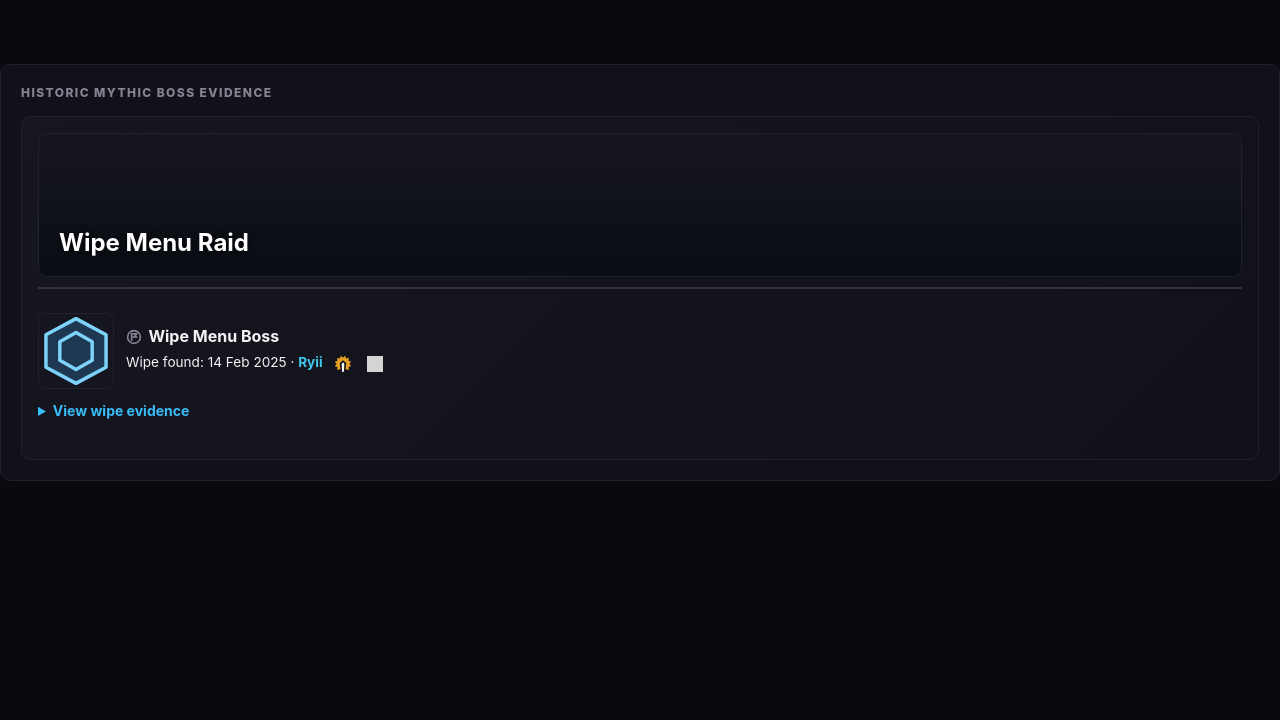
opens duplicate wipe reports on hover with guild and uploader labels
The width and height of the screenshot is (1280, 720).
Click the heading "View wipe evidence": [121, 411] box [53, 402, 189, 419]
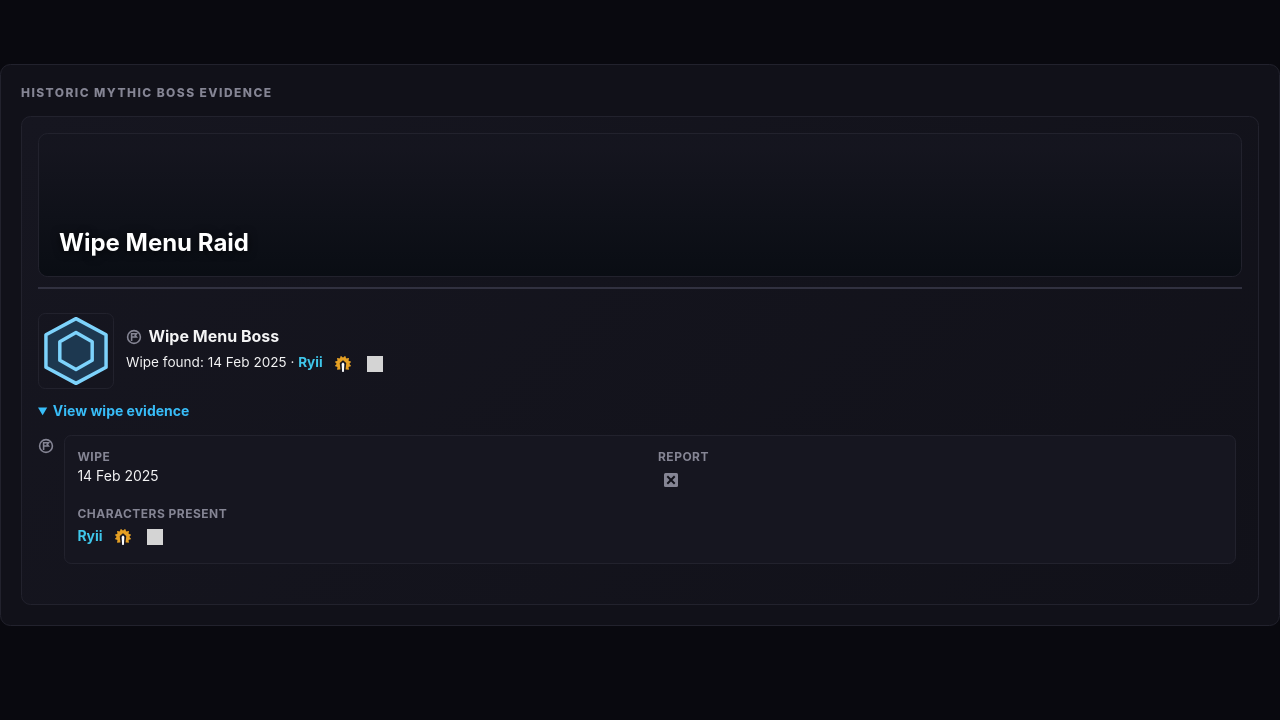
Expected: the link "guild log" is not shown
Hover over the button named "Choose from 3 wipe reports": [671, 480] box [658, 467, 684, 494]
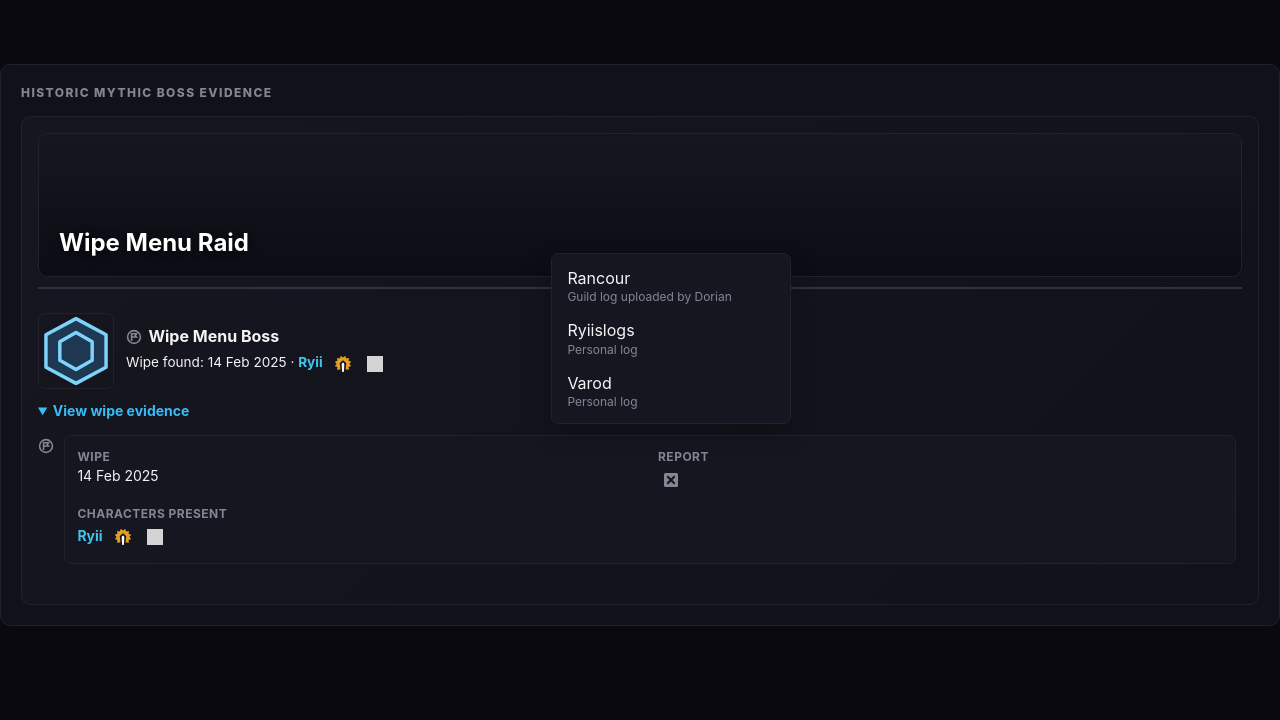
Expected: the link with aria-label "Rancour — Guild log uploaded by Dorian" is shown, [567, 268, 732, 304]
Expected: the link with aria-label "Ryiislogs, personal log" is shown, [567, 320, 638, 357]
